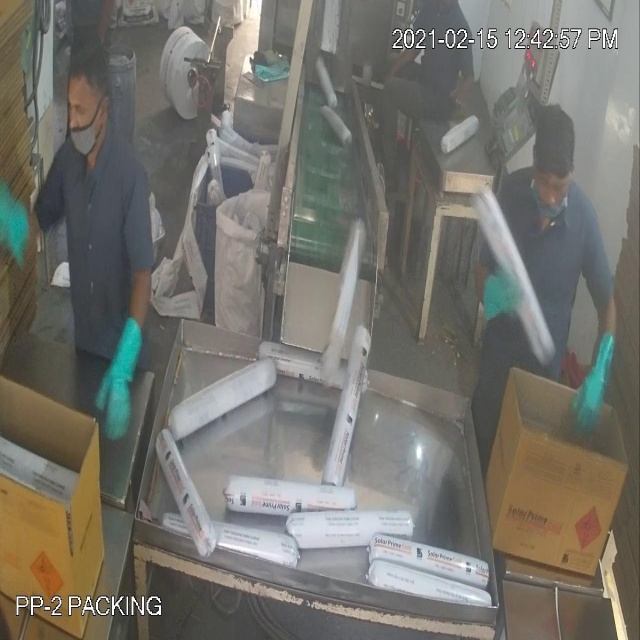Guantes: (85, 287, 150, 443), (561, 318, 624, 438)
Sin_guantes: (376, 50, 424, 87)
